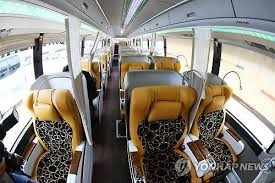seat: (131, 89, 192, 180)
